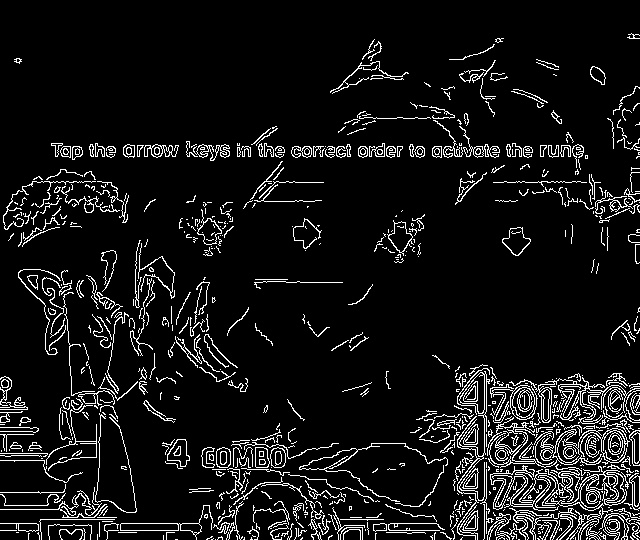down: (492, 219, 541, 266), (379, 216, 429, 260)
right: (284, 213, 328, 256)
up: (189, 213, 233, 252)
